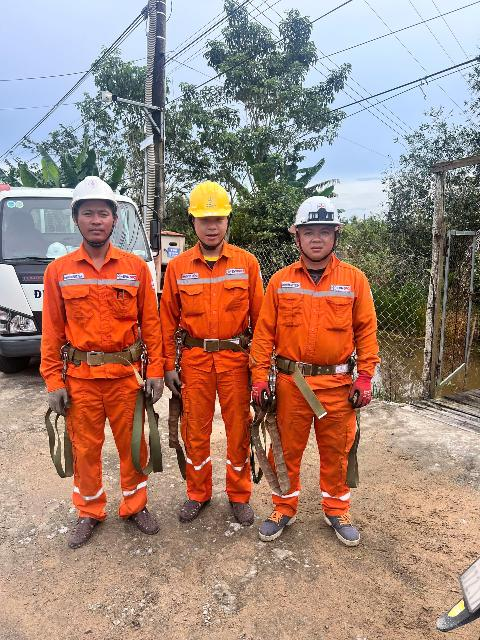gloves: (343, 363, 391, 409), (242, 377, 277, 412), (44, 379, 76, 416), (163, 364, 190, 399), (141, 370, 167, 406)
harness: (268, 338, 363, 381), (51, 337, 156, 372), (173, 322, 263, 357)
helmet: (284, 180, 346, 230), (64, 168, 127, 212), (187, 178, 237, 223)
shoes: (321, 502, 368, 549), (257, 505, 308, 547), (58, 505, 103, 549), (123, 493, 168, 537), (173, 491, 223, 527), (227, 493, 262, 528)
